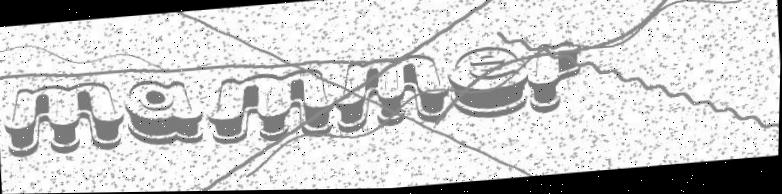a: (121, 74, 207, 154)
e: (441, 43, 531, 120)
m: (198, 65, 337, 150), (1, 76, 133, 165), (327, 52, 458, 135)
r: (521, 40, 588, 117)
